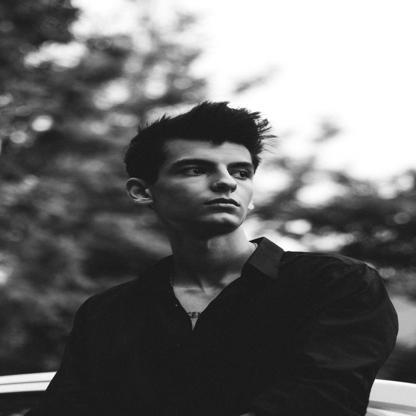person: (35, 101, 406, 416)
